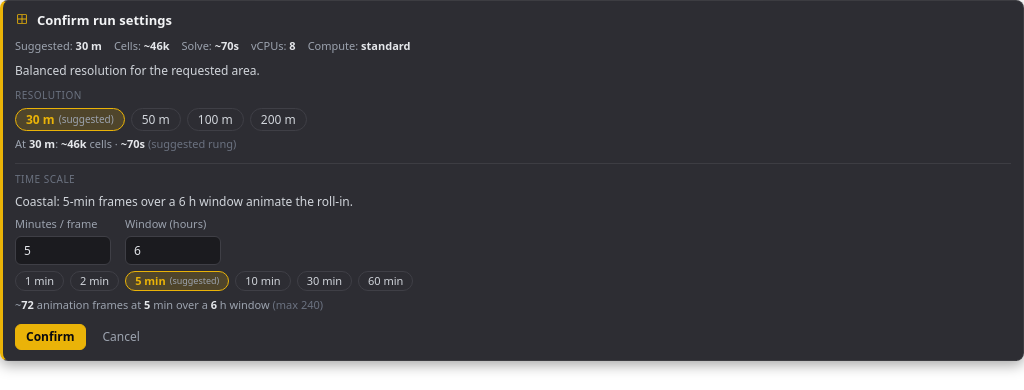
Test: ResolutionPickerCard - combined run-settings (time scale) › LIVE-recomputes the frame count as the interval is edited
This screenshot has width=1024, height=390.
Replace the text in the number field with test id "resolution-picker-interval-input" with "2" at x=63, y=250, box [15, 236, 111, 265]
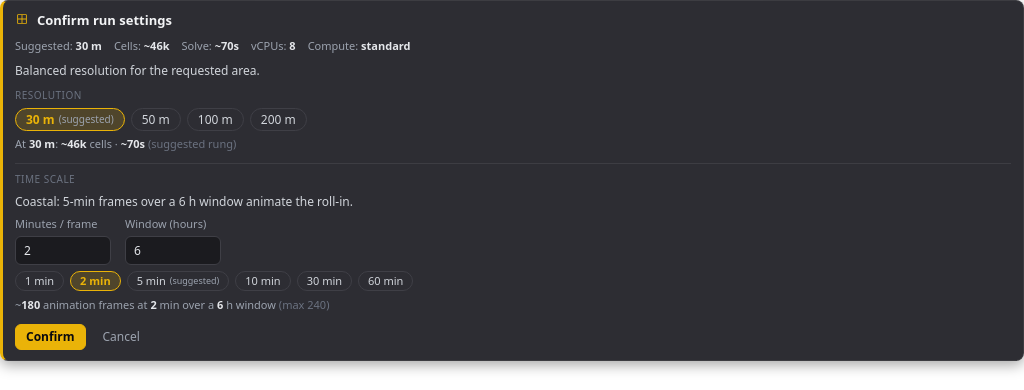
Result: the text with test id "resolution-picker-frame-count" reads "180" at [21, 297, 40, 312]
